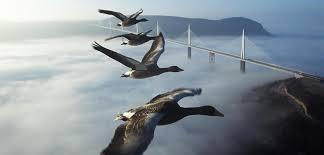Non_Gorille: (76, 4, 212, 153)
